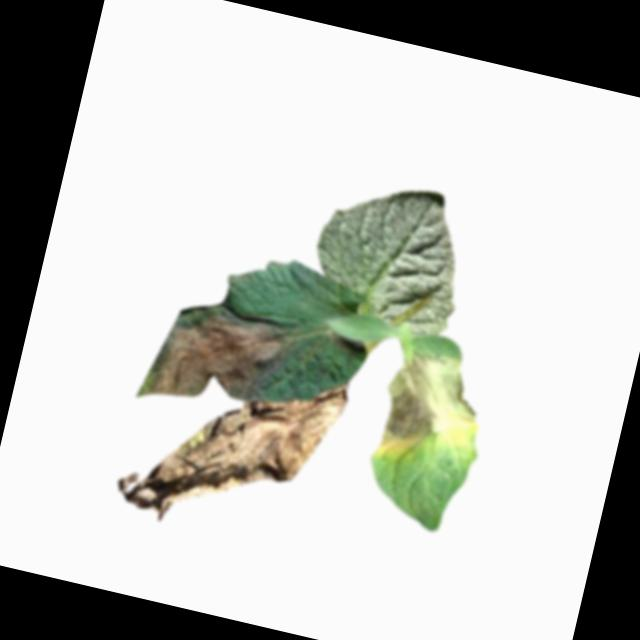Late_blight: (110, 338, 352, 557), (143, 293, 296, 425), (373, 343, 493, 468)
healthy: (304, 169, 481, 342)
